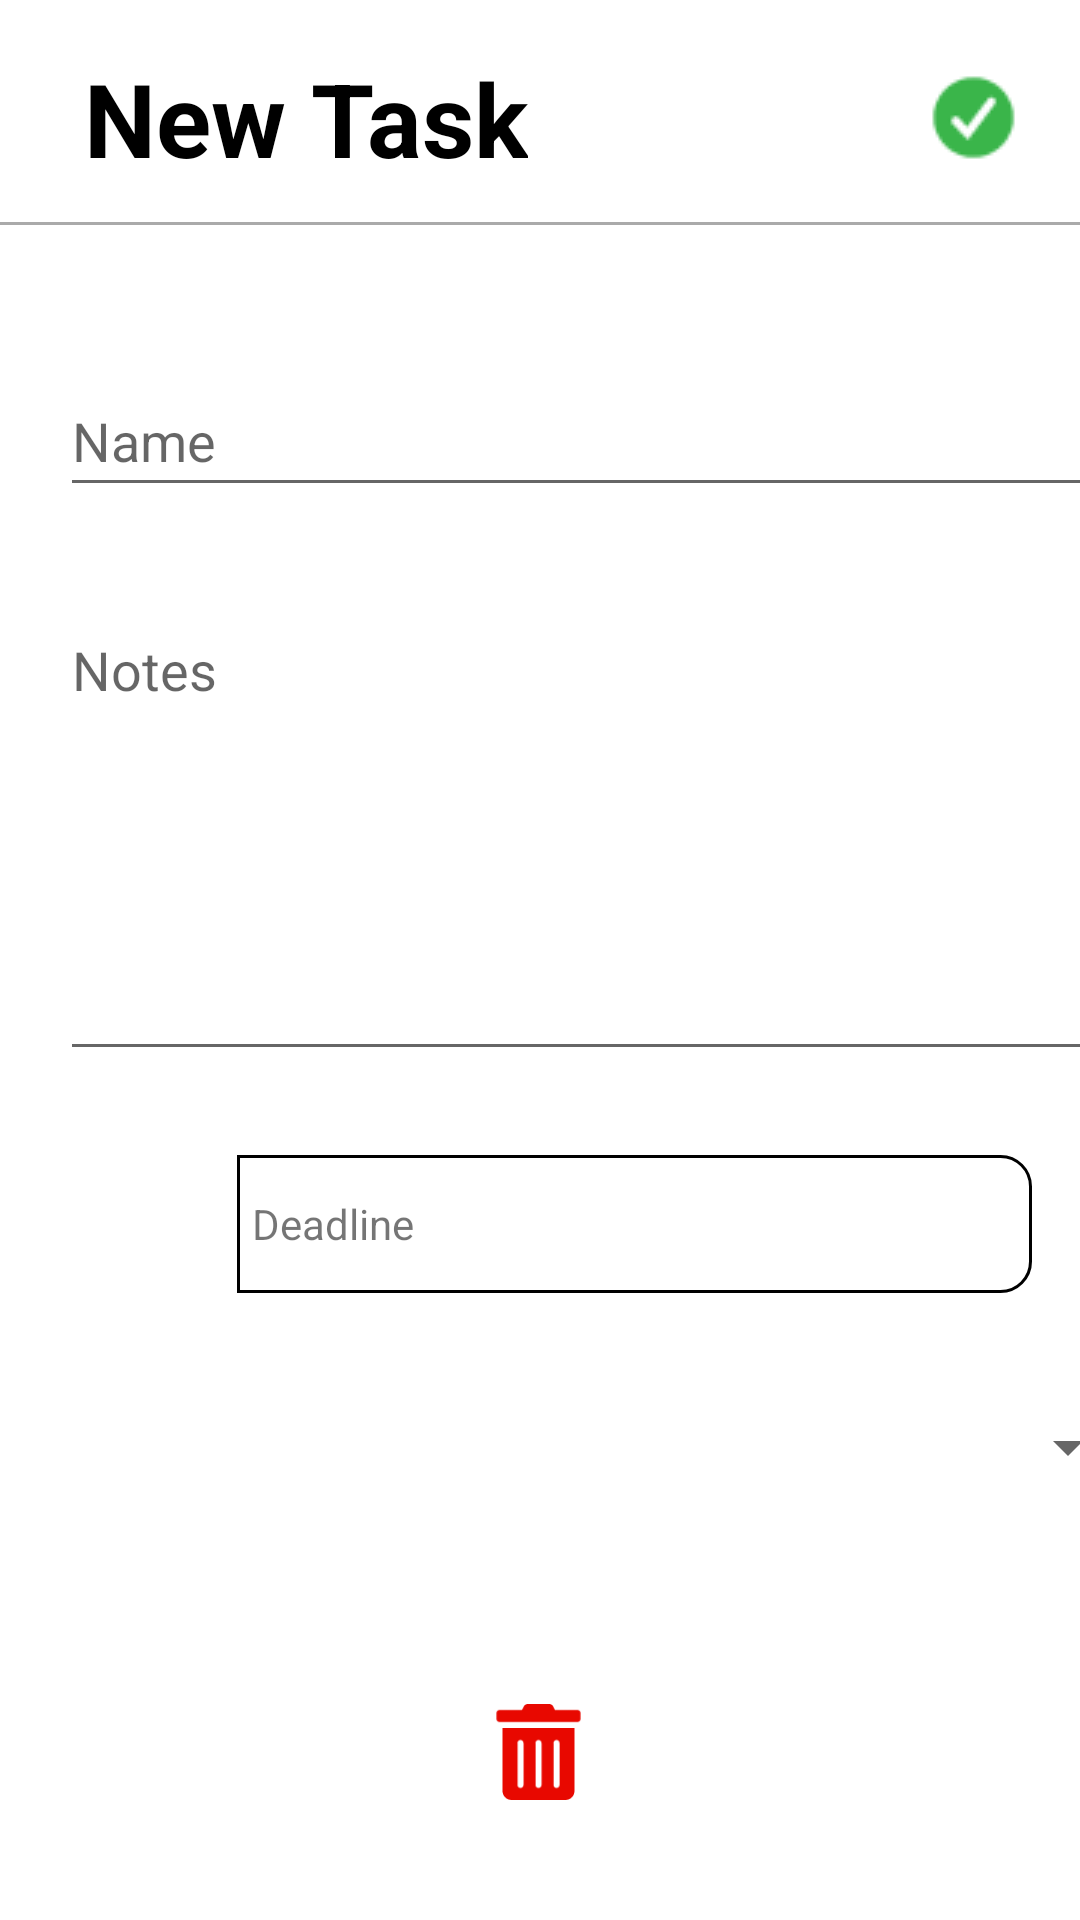

Icons on this 1080 x 1920 Android screen, each with its box as (x1, y1, x2, y2):
check: (932, 76, 1015, 159)
trash bin: (496, 1704, 581, 1800)
